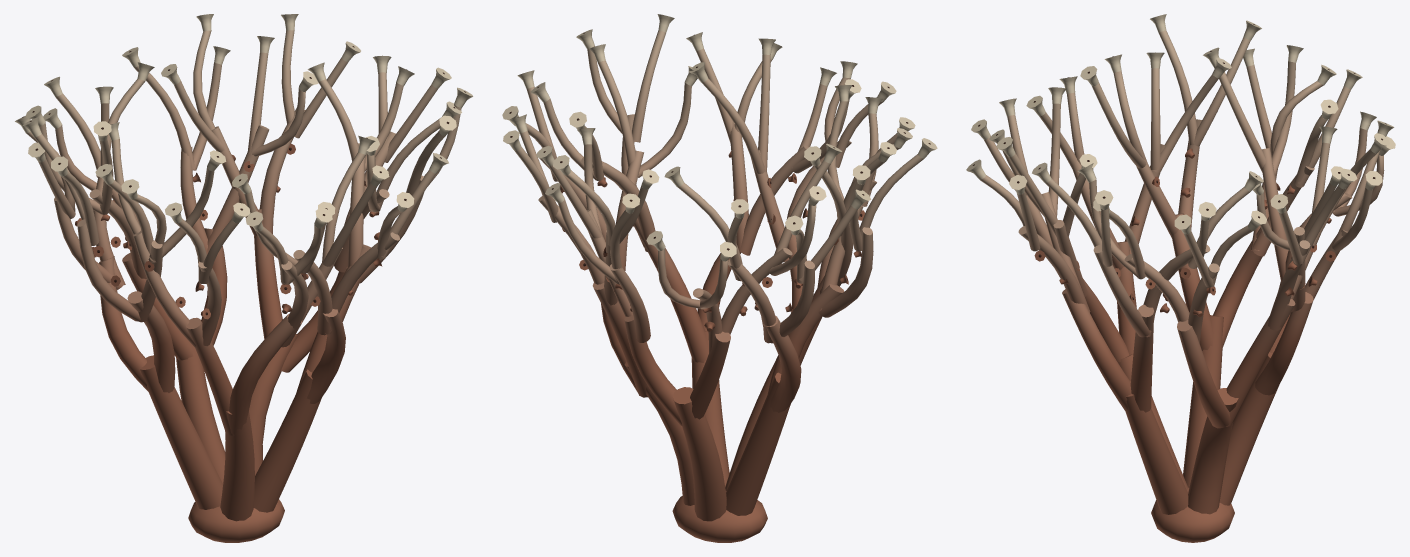
Rendered from coral_staghorn.glb.
3 renders of one model, left to right at view 1: azimuth 30°, elevation 25°; view 2: azimuth 150°, elevation 25°; view 3: azimuth 270°, elevation 25°, orthographic.
Parts seen in each view (by area): view 1: Pelagic.coral_staghorn.Surface; view 2: Pelagic.coral_staghorn.Surface; view 3: Pelagic.coral_staghorn.Surface.
Part boxes in pixels (box(x1,y1,x2,y2)): Pelagic.coral_staghorn.Surface: box(15, 14, 473, 542); Pelagic.coral_staghorn.Surface: box(502, 14, 937, 542); Pelagic.coral_staghorn.Surface: box(966, 14, 1395, 542).
Bounding box in the file's own units: 0.8927 × 0.9176 × 0.8228.
